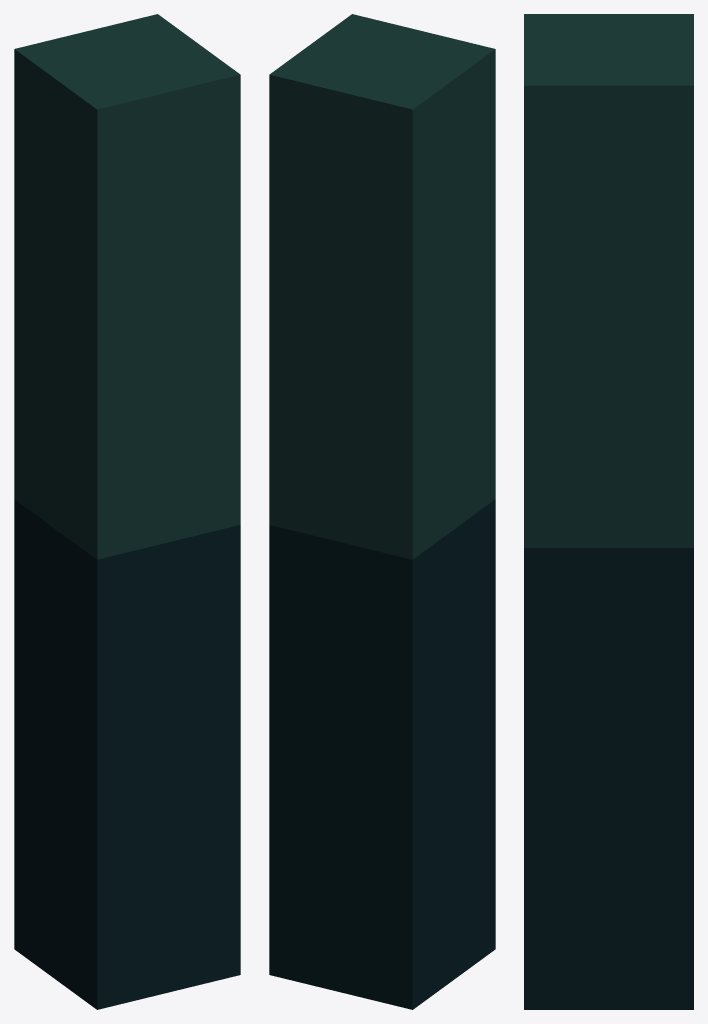
The model's file is Grass_6.glb.
3 renders of one model, left to right at view 1: azimuth 30°, elevation 25°; view 2: azimuth 150°, elevation 25°; view 3: azimuth 270°, elevation 25°, orthographic. The views are drawn at different scales.
Parts seen in each view (by area): view 1: Grass_6; view 2: Grass_6; view 3: Grass_6.
Part boxes in pixels (x1,y1,x2,y2): Grass_6: (14, 14, 240, 1009); Grass_6: (269, 14, 495, 1009); Grass_6: (524, 14, 693, 1009).
Bounding box in the file's own units: 0.025 × 0.15 × 0.025.
